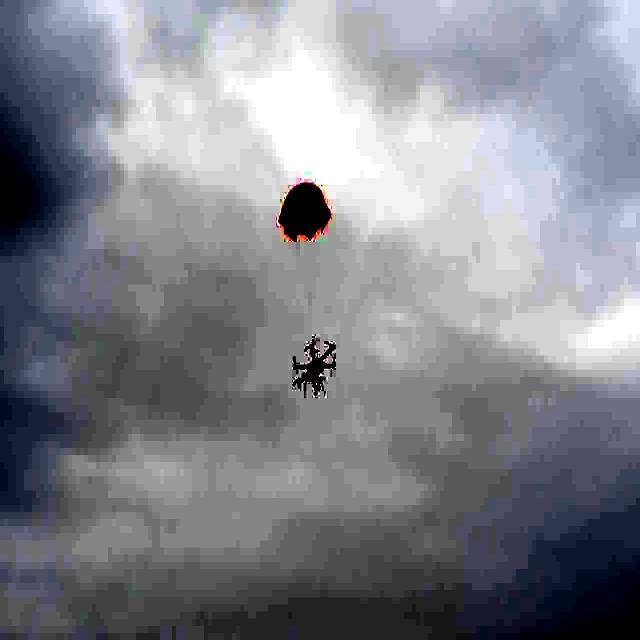drone: (292, 342, 338, 399)
